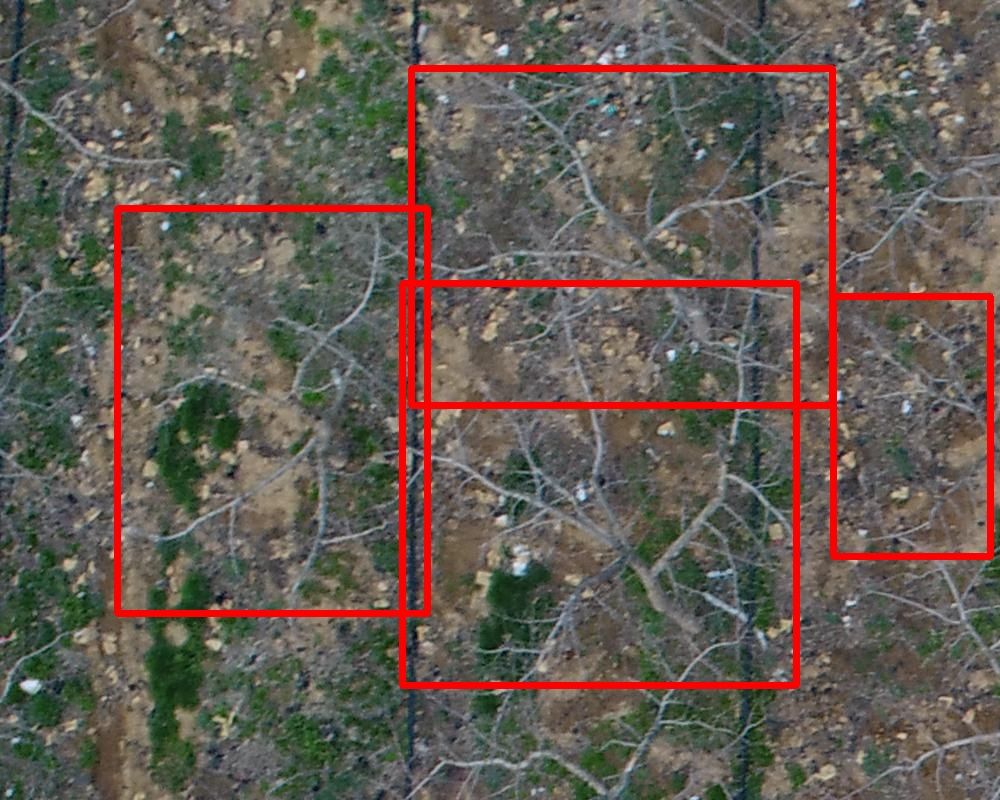apple: (402, 283, 796, 685), (411, 68, 832, 405), (117, 208, 427, 613), (833, 296, 990, 556)
